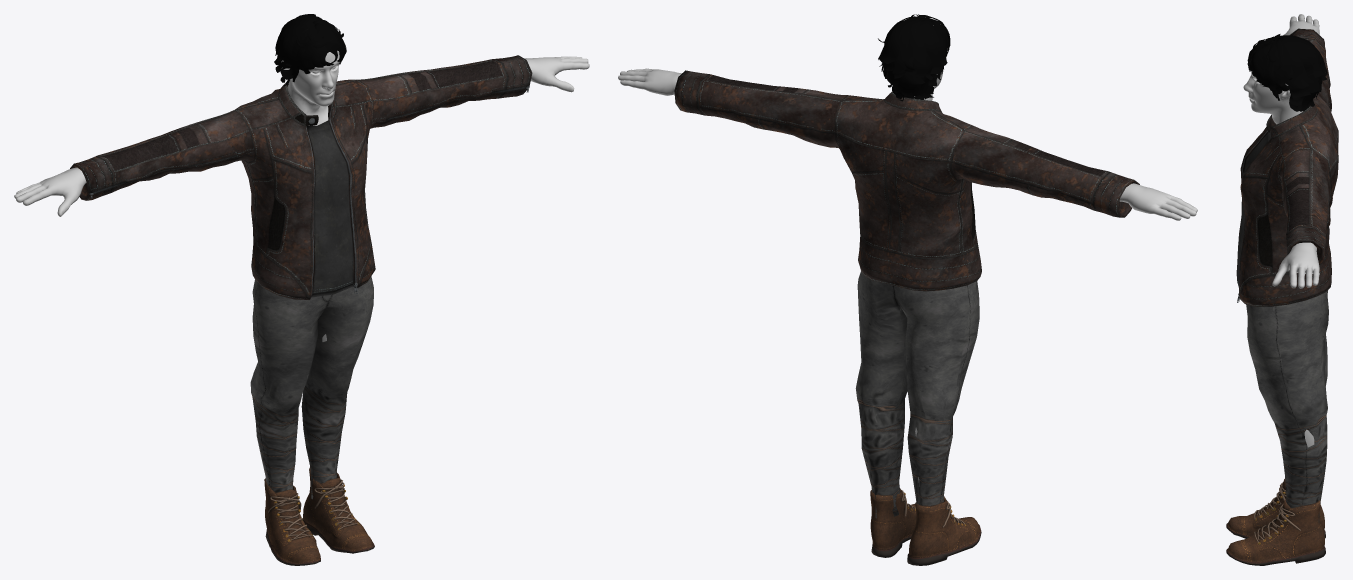
File: thirteenth_clothes_hair.obj
3 views of the same model, side by side, from view 1: azimuth 30°, elevation 25°; view 2: azimuth 150°, elevation 25°; view 3: azimuth 270°, elevation 25° (orthographic). The views are drawn at different scales.
Parts seen in each view (by area): view 1: Tops, Bottoms, Shoes, Body, Hair; view 2: Tops, Bottoms, Shoes, Hair, Body; view 3: Tops, Bottoms, Shoes, Hair, Body.
Part boxes in pixels (box(x1,y1,x2,y2)): Tops: box(70, 55, 532, 299); Bottoms: box(250, 276, 373, 499); Shoes: box(264, 467, 374, 565); Body: box(14, 50, 589, 377); Hair: box(274, 14, 346, 86); Tops: box(674, 70, 1139, 291); Bottoms: box(855, 271, 979, 518); Shoes: box(870, 488, 981, 565); Hair: box(878, 14, 950, 101); Body: box(618, 25, 1197, 486); Tops: box(1236, 28, 1338, 306); Bottoms: box(1246, 290, 1328, 522); Shoes: box(1226, 478, 1325, 565); Hair: box(1247, 34, 1327, 111); Body: box(1243, 14, 1319, 447).
Bounding box in the file's own units: 21.36 × 18.72 × 3.74.
